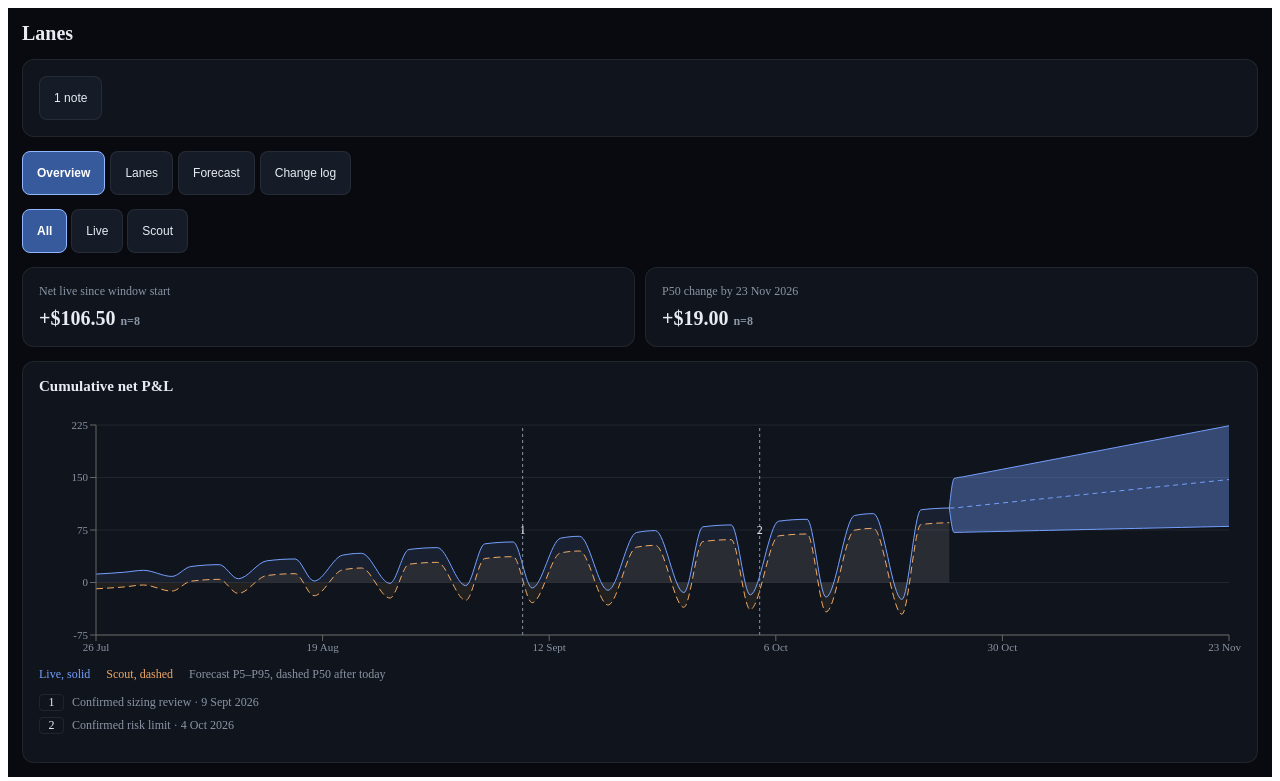
LanePerformanceView › shows drawdown as a loss, count units, and sparkline endpoints
The width and height of the screenshot is (1280, 781).
Click the button "Forecast". click: (216, 173)
box: [178,151,255,195]
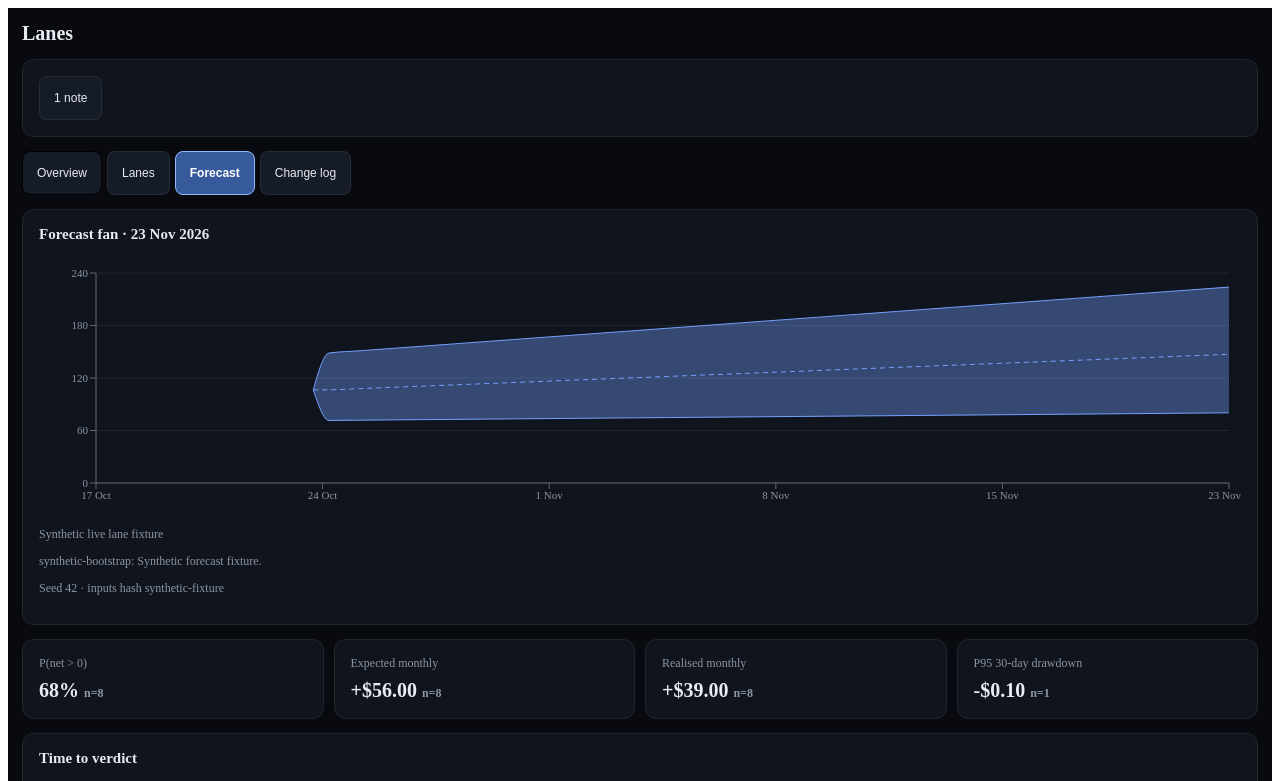
Expected: the text "-$0.10 n=1" is shown, [974,679,1050,701]
Click the button "Lanes". click: (138, 173)
box: [107,151,170,195]
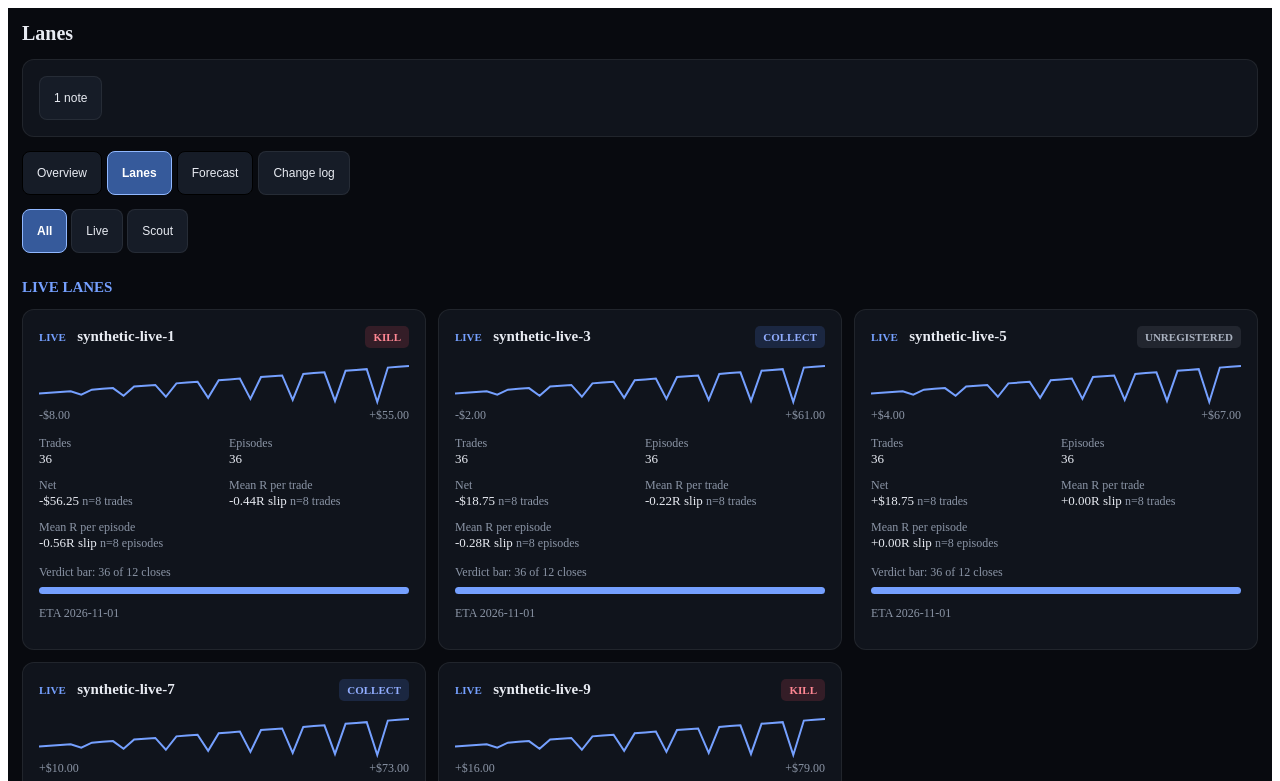
Expected: the element with test id "lane-card" shows "n=8 trades", [22,309,426,650]
Expected: the element with test id "lane-card" shows "n=8 episodes", [22,309,426,650]
Expected: the element with test id "lane-card" shows "Verdict bar: 36 of 12 closes", [22,309,426,650]
